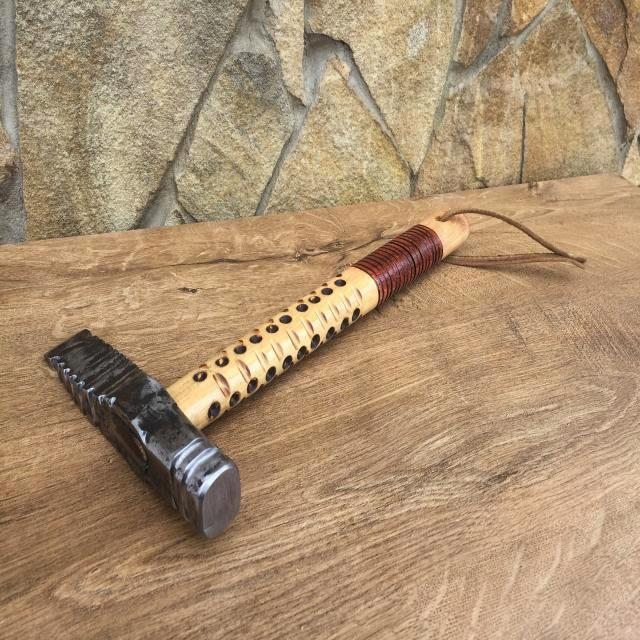hammer: (46, 200, 474, 542)
